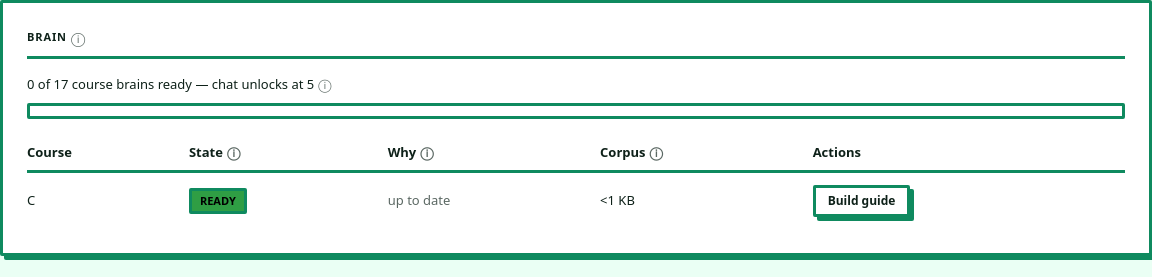
Test: the State column header carries an InfoTip with the exact copy
The image size is (1152, 277).
Click the button "ⓘ" next to "State".
click(234, 152)  # box [227,142,240,162]
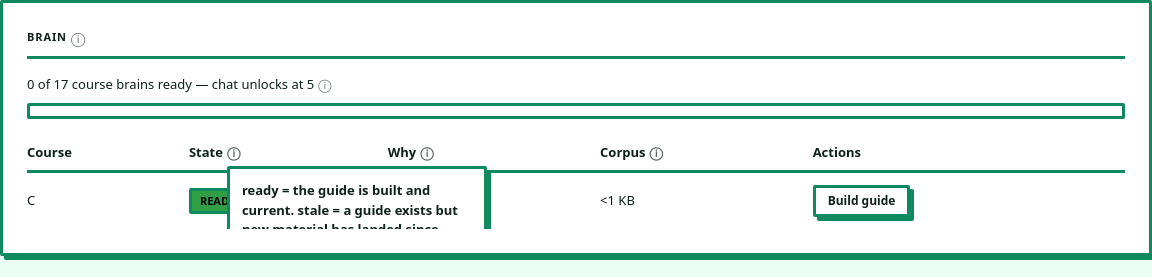
Expected: the tooltip shows "ready = the guide is built and current. stale = a guide exists but new material has landed since. not-built = no guide yet.", [242,181,458,229]
